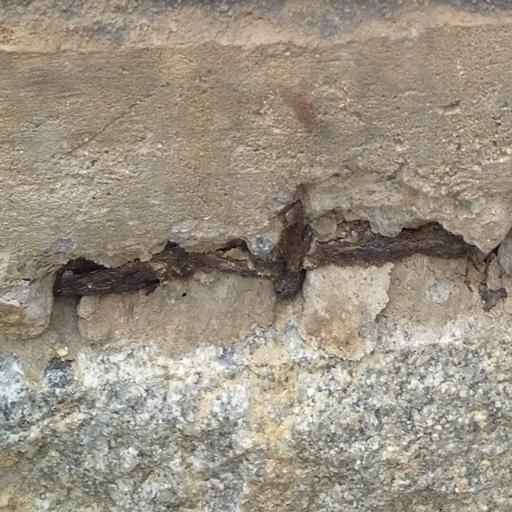spalling: (11, 175, 512, 389)
